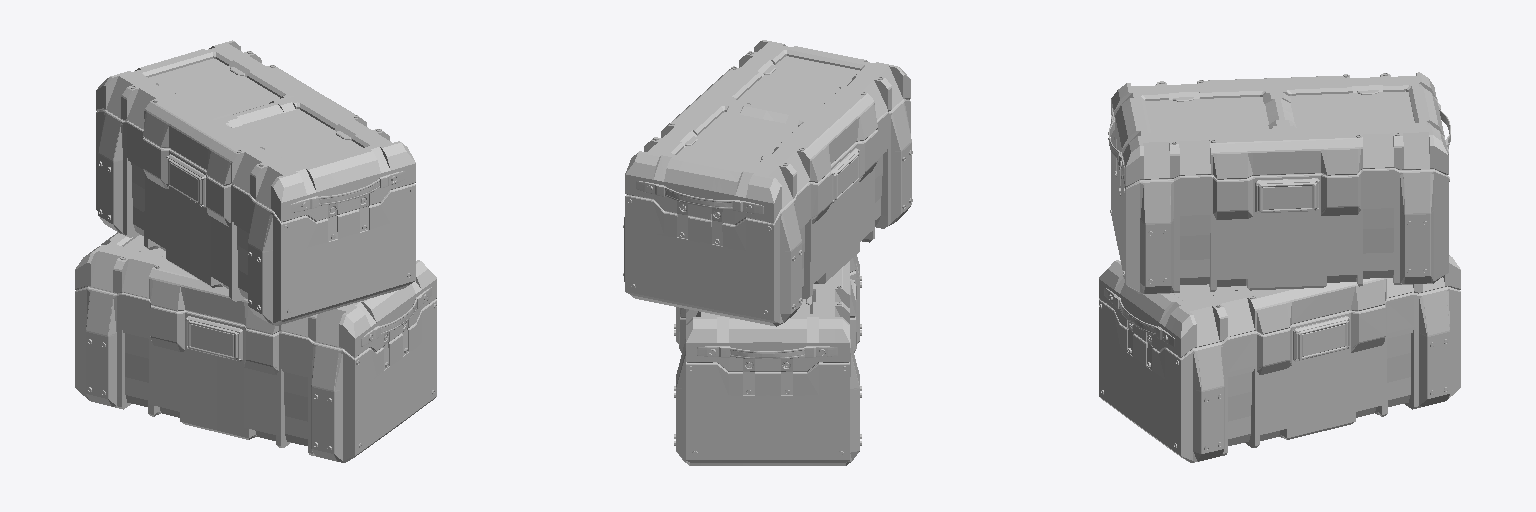
The picture shows the model from 3 angles: view 1: azimuth 30°, elevation 25°; view 2: azimuth 150°, elevation 25°; view 3: azimuth 270°, elevation 25°; orthographic projection.
Visible parts, largest first — view 1: sffCrate4_Shape, sffCrate1_Shape; view 2: sffCrate4_Shape, sffCrate1_Shape; view 3: sffCrate4_Shape, sffCrate1_Shape.
Part boxes in pixels (left/top/right/bottom): sffCrate4_Shape: left=96, top=40, right=415, bottom=325; sffCrate1_Shape: left=75, top=232, right=436, bottom=462; sffCrate4_Shape: left=623, top=40, right=912, bottom=326; sffCrate1_Shape: left=674, top=255, right=861, bottom=465; sffCrate4_Shape: left=1108, top=72, right=1450, bottom=293; sffCrate1_Shape: left=1099, top=255, right=1460, bottom=462.
Size of the model in its own units: 40.75 by 43.66 by 48.57.